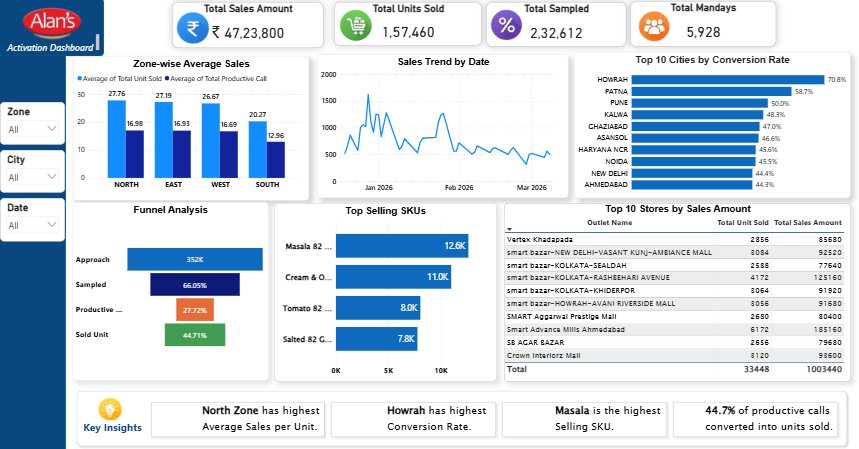

Layout of this report page (visuals, bound fields, positions):
{"tool":"powerbi","page":{"name":"Page 1","canvas":[2000,1050],"ordinal":0},"visuals":[{"type":"shape","box":[171.1,904.4,1808.9,146.7],"z":0},{"type":"shape","box":[0,0,155.6,1051.1],"z":1000},{"type":"shape","box":[0,0,244.4,135.6],"z":2000},{"type":"card","title":"Total Sales Amount","fields":{"Values":["Sum(Table1.Total Sales Amount)"]},"box":[402.2,8.9,353.3,106.7],"z":3000},{"type":"card","title":"Total Units Sold","fields":{"Values":["Sum(Table1.Total Unit Sold)"]},"box":[780,8.9,344.4,102.2],"z":4000},{"type":"card","title":"Total Sampled","fields":{"Values":["Sum(Table1.Total Sampled)"]},"box":[1133.3,8.9,326.7,104.4],"z":5000},{"type":"card","title":"Total Mandays","fields":{"Values":["CountNonNull(Table1.Sl No)"]},"box":[1468,6,340,106],"z":6000},{"type":"slicer","fields":{"Values":["Table1.Zone"]},"box":[2.2,240.9,150.5,98.9],"z":7000},{"type":"slicer","fields":{"Values":["Table1.City"]},"box":[2.2,352.7,150.5,98.9],"z":8000},{"type":"slicer","fields":{"Values":["Table1.Date"]},"box":[2.2,464.5,150.5,101.1],"z":9000},{"type":"textbox","box":[8.9,80,228.9,51.1],"z":10000},{"type":"image","box":[0,0,244.4,108.9],"z":11000},{"type":"clusteredColumnChart","title":"Zone-wise Average Sales","fields":{"Category":["Table1.Zone"],"Y":["Avg(Table1.Total Unit Sold)","Avg(Table1.Total Productive Call)"]},"box":[171.1,135.6,548.9,335.6],"z":12000},{"type":"lineChart","title":"Sales Trend by Date","fields":{"Y":["Avg(Table1.Total Sales Amount)"],"Category":["Table1.Date"]},"box":[740,130,585,335],"z":13000},{"type":"clusteredBarChart","title":"Top 10 Cities by Conversion Rate","fields":{"Category":["Table1.City"],"Y":["Table1.Conversion Rate"]},"box":[1337.5,125,642.5,340],"z":14000},{"type":"funnel","title":"Funnel Analysis","fields":{"Y":["Sum(Table1.Total Approach)","Sum(Table1.Total Sampled)","Sum(Table1.Total Productive Call)","Sum(Table1.Total Unit Sold)"]},"box":[170,475,457.5,415],"z":15000},{"type":"clusteredBarChart","title":"Top Selling SKUs","fields":{"Category":["Table1.Attribute"],"Y":["Table1.Total Units Sold"]},"box":[640,477.5,517.5,415],"z":16000},{"type":"tableEx","title":"Top 10 Stores by Sales Amount","fields":{"Values":["Table1.Outlet Name","Sum(Table1.Total Unit Sold)","Sum(Table1.Total Sales Amount)"]},"box":[1173.3,477.8,806.7,415.6],"z":17000},{"type":"image","box":[386.7,13.3,137.8,111.1],"z":18000},{"type":"image","box":[771.1,13.3,120,111.1],"z":19000},{"type":"image","box":[1128.9,22.2,108.9,88.9],"z":20000},{"type":"image","box":[1462.2,17.8,128.9,100],"z":21000},{"type":"image","box":[208.9,915.6,95.6,77.8],"z":22000},{"type":"textbox","box":[191.1,977.8,168.9,53.3],"z":23000},{"type":"shape","box":[344.4,931.1,422.2,100],"z":24000},{"type":"textbox","box":[466.7,937.8,304.4,88.9],"z":25000},{"type":"shape","box":[762.2,931.1,402.2,100],"z":26000},{"type":"textbox","box":[897.8,937.8,304.4,88.9],"z":27000},{"type":"shape","box":[1160,931.1,402.2,100],"z":28000},{"type":"textbox","box":[1288.9,937.8,304.4,88.9],"z":29000},{"type":"shape","box":[1557.8,931.1,402.2,100],"z":30000},{"type":"textbox","box":[1637.8,937.8,342.2,88.9],"z":31000}]}

Visuals, with their boxes in screenshot pixels (x1, y1, x2, y2), scaled from the page's 2000x1050 canvas onto the 859x449 screenshot:
shape: <box>73,387,850,448</box>
shape: <box>0,0,67,448</box>
shape: <box>0,0,105,58</box>
"Total Sales Amount" card: <box>173,4,324,49</box>
"Total Units Sold" card: <box>335,4,483,48</box>
"Total Sampled" card: <box>487,4,627,48</box>
"Total Mandays" card: <box>631,3,777,48</box>
slicer - Table1.Zone: <box>1,103,66,145</box>
slicer - Table1.City: <box>1,151,66,193</box>
slicer - Table1.Date: <box>1,199,66,242</box>
textbox: <box>4,34,102,56</box>
image: <box>0,0,105,47</box>
"Zone-wise Average Sales" clusteredColumnChart: <box>73,58,309,201</box>
"Sales Trend by Date" lineChart: <box>318,56,569,199</box>
"Top 10 Cities by Conversion Rate" clusteredBarChart: <box>574,53,850,199</box>
"Funnel Analysis" funnel: <box>73,203,270,381</box>
"Top Selling SKUs" clusteredBarChart: <box>275,204,497,382</box>
"Top 10 Stores by Sales Amount" tableEx: <box>504,204,850,382</box>
image: <box>166,6,225,53</box>
image: <box>331,6,383,53</box>
image: <box>485,9,532,48</box>
image: <box>628,8,683,50</box>
image: <box>90,392,131,425</box>
textbox: <box>82,418,155,441</box>
shape: <box>148,398,329,441</box>
textbox: <box>200,401,331,439</box>
shape: <box>327,398,500,441</box>
textbox: <box>386,401,516,439</box>
shape: <box>498,398,671,441</box>
textbox: <box>554,401,684,439</box>
shape: <box>669,398,842,441</box>
textbox: <box>703,401,850,439</box>
